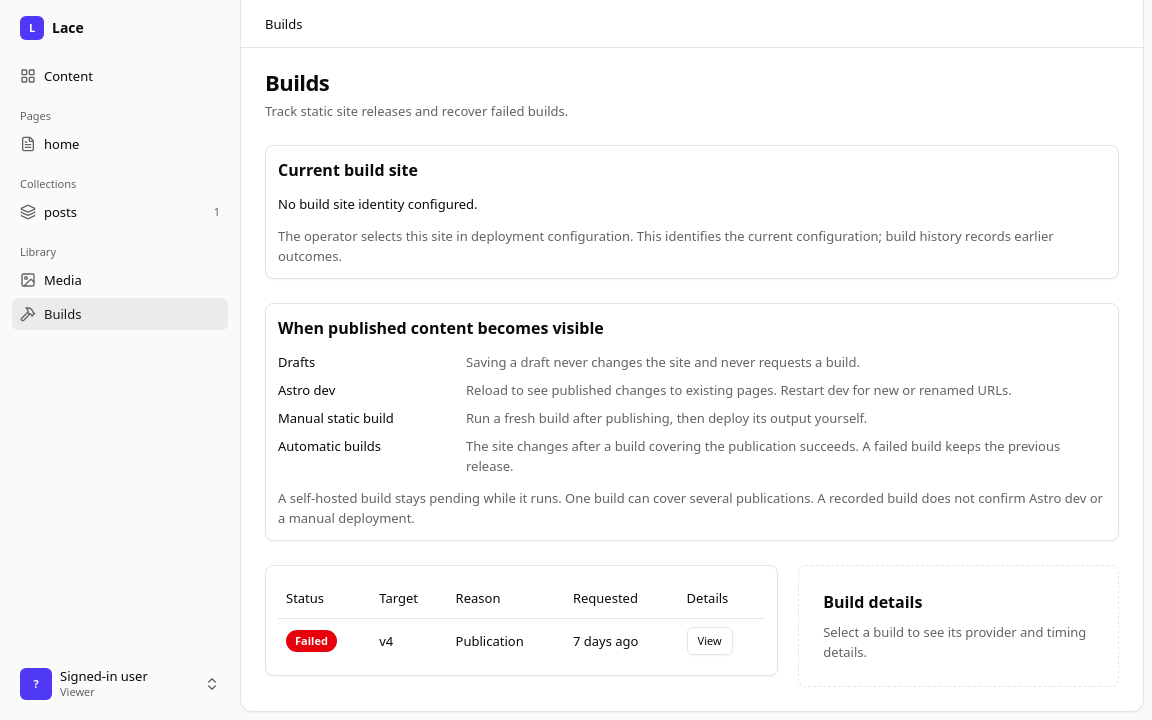
Test: viewer can inspect history without build controls
(page scrolled)
Click the button with aria-label "View build for version 4".
click(710, 640)  # box [687,626,733,654]
(page scrolled)
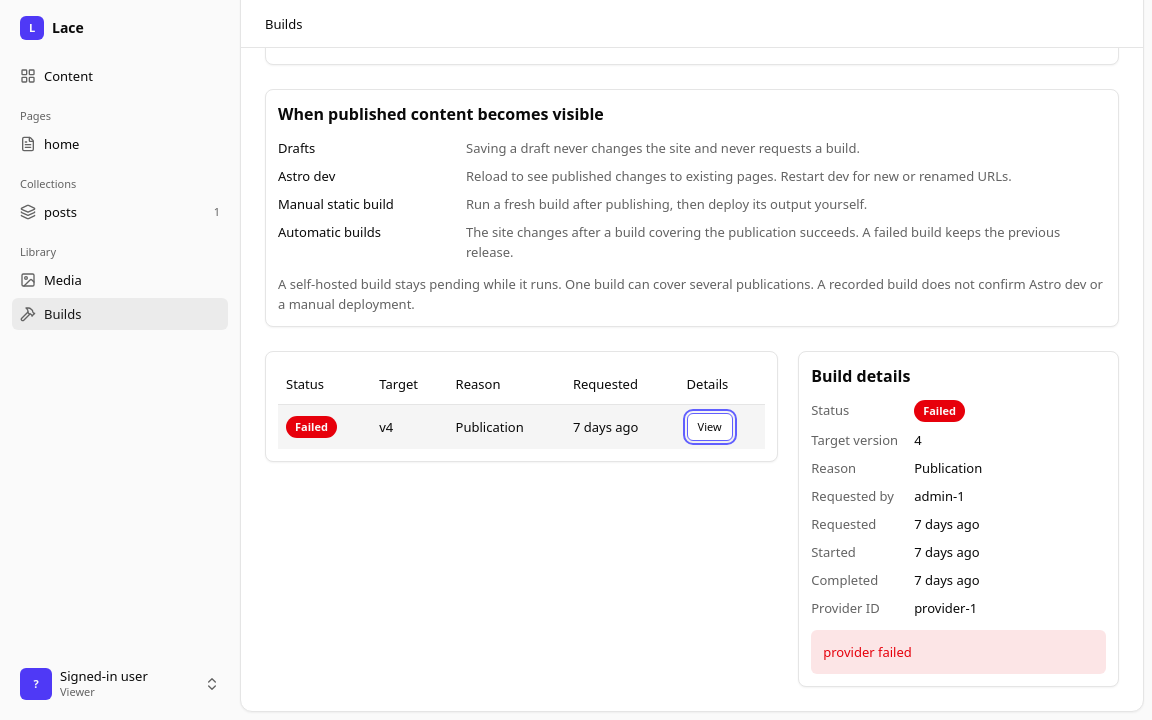
Now the text "provider-1" is shown, box [914,599,977,617]
